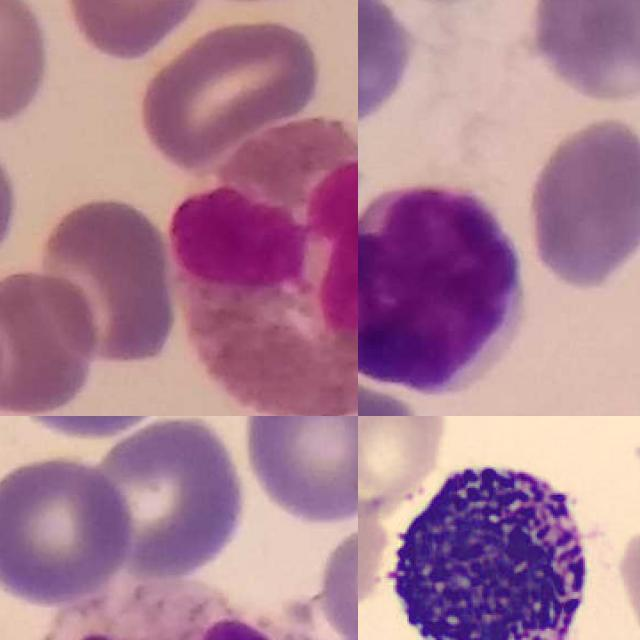Basophil: (369, 447, 604, 640)
Eosinophil: (174, 119, 358, 416)
Lymphocyte: (358, 184, 525, 398)
Neutrophil: (21, 584, 346, 640)
RBC: (358, 416, 452, 517)
